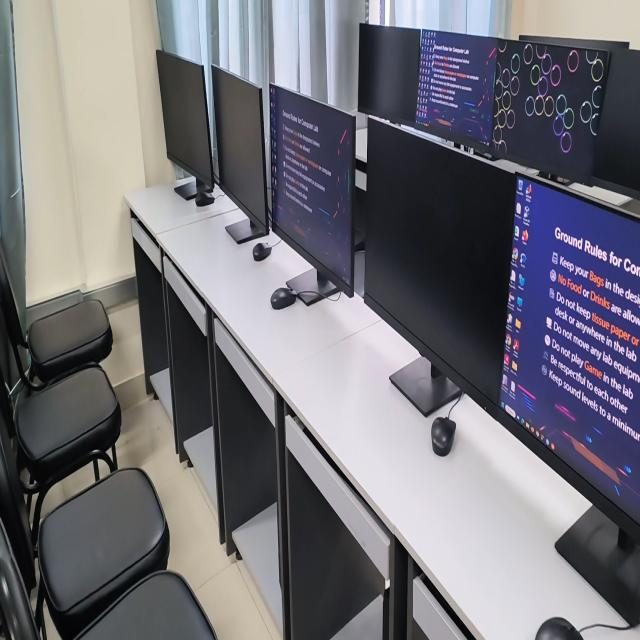Chair: (0, 417, 170, 639), (0, 517, 219, 639), (14, 366, 121, 546), (0, 239, 113, 389)
Monitor: (497, 175, 640, 625), (364, 120, 514, 416), (270, 85, 355, 305), (492, 40, 609, 182), (212, 67, 270, 243), (414, 29, 497, 151), (156, 51, 214, 191), (592, 49, 640, 199), (358, 24, 420, 122), (519, 35, 629, 52)
Mouse: (535, 617, 583, 639), (431, 417, 456, 456), (270, 287, 296, 309), (253, 243, 272, 261), (196, 192, 215, 206)
